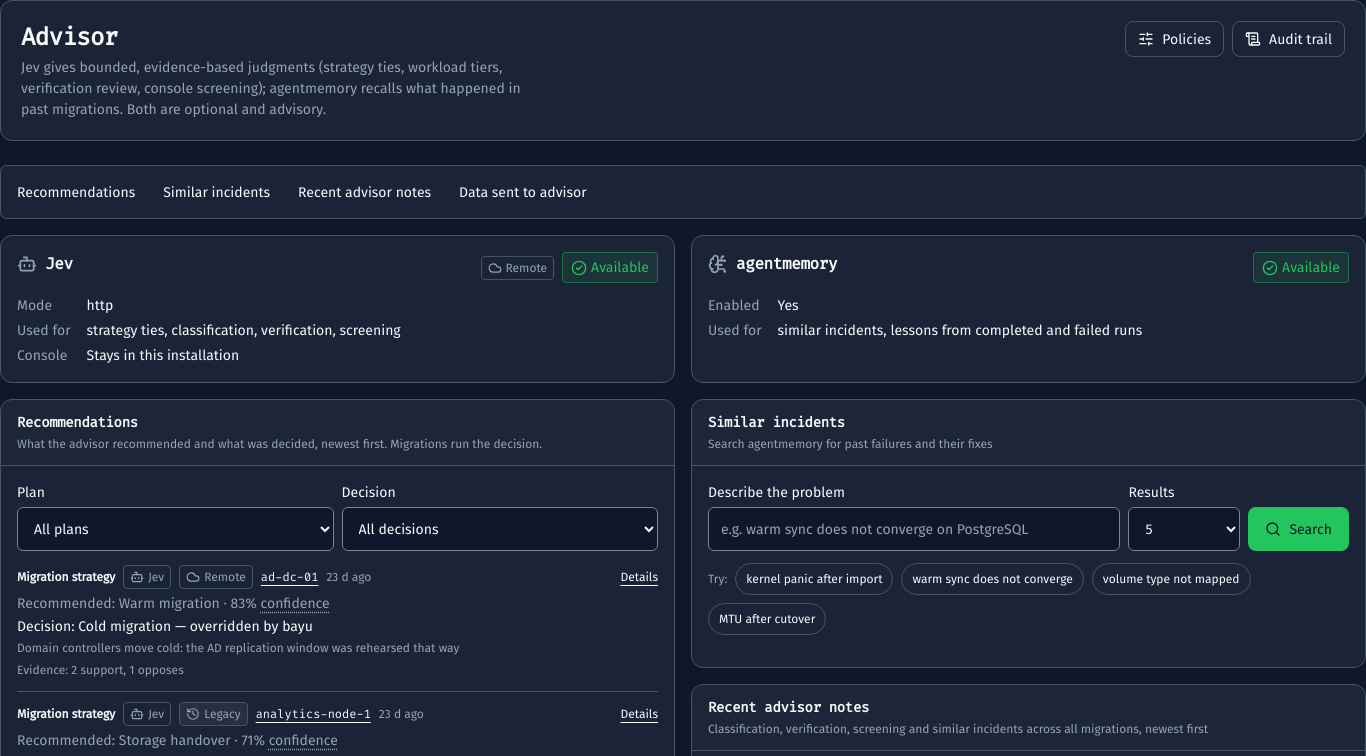
Test case: Advisor page › announces the error when the search is submitted empty (SDD §16)
The width and height of the screenshot is (1366, 756).
What coordinates should you click on to do the following:
click the button "Search"
I would click on:
 (1299, 529)
Its box is [1248,507,1349,551].
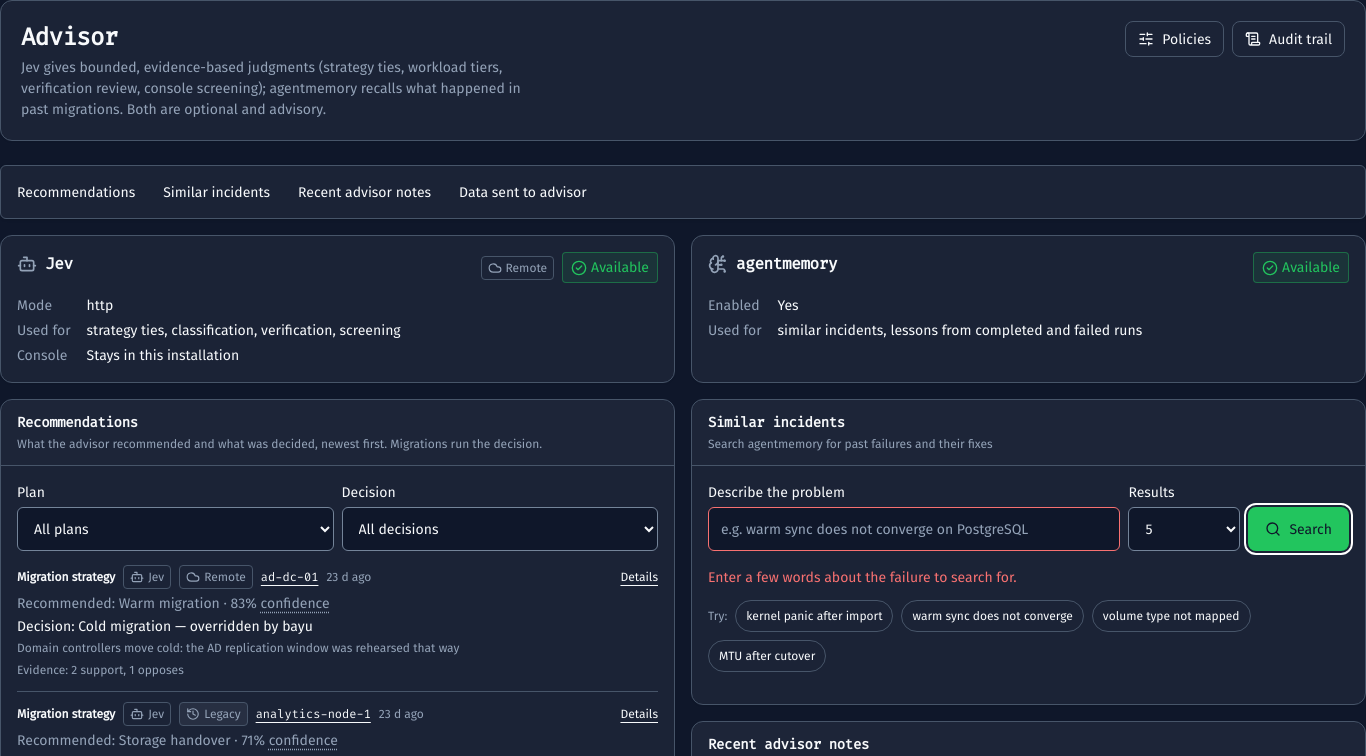
Expected: the message reads "Enter a few words about the failure to search for.", [708,569,1017,586]
